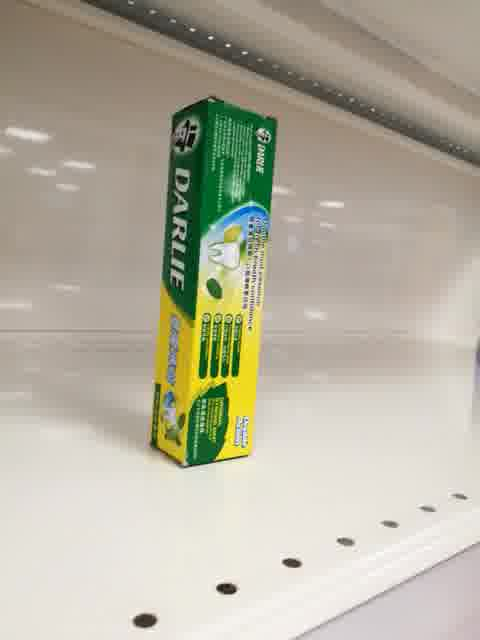toothpaste: (148, 93, 279, 469)
